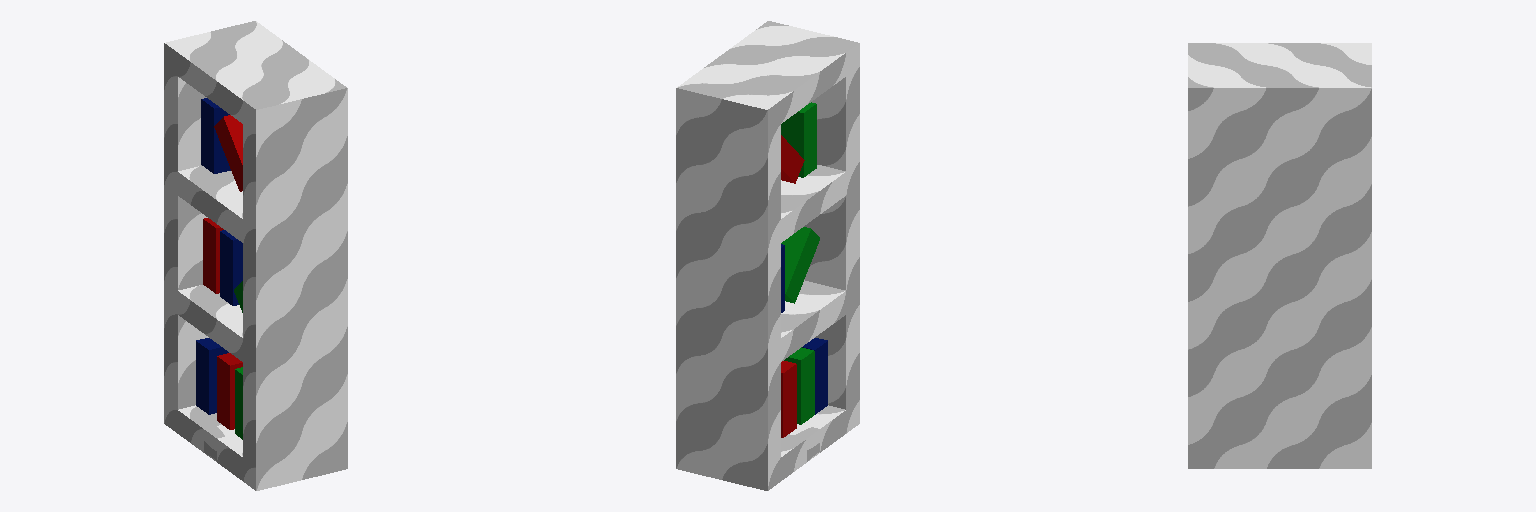
3 views of the same model, side by side, from view 1: azimuth 30°, elevation 25°; view 2: azimuth 150°, elevation 25°; view 3: azimuth 270°, elevation 25° (orthographic).
Visible parts, largest first — view 1: block; view 2: block; view 3: block.
Boxes of the visible parts, <box> form: block: <box>164,21,347,490</box>; block: <box>676,21,859,490</box>; block: <box>1188,43,1371,468</box>.
Size of the model in its own units: 0.5 by 2 by 0.875.
Materials: 4 (1 with a texture image).